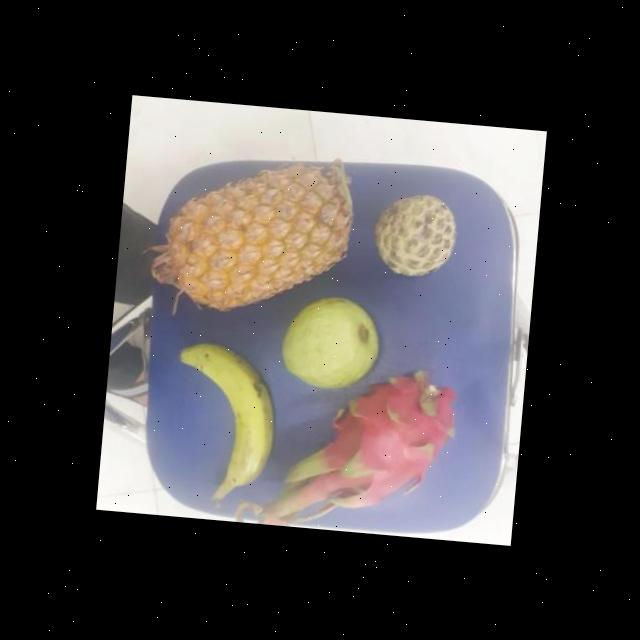Sakya fruit: (370, 189, 458, 283)
banana: (166, 342, 282, 508)
guava: (280, 293, 383, 398)
pineapple: (148, 152, 353, 320)
pitaya: (320, 368, 460, 518)
